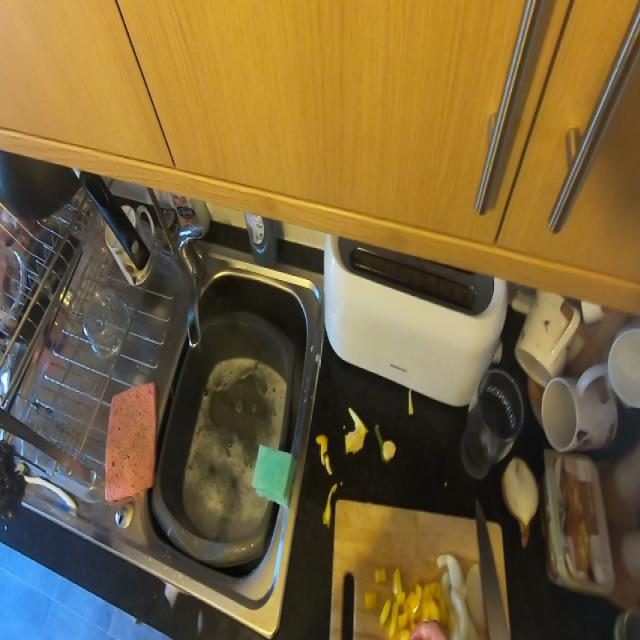cutting board: (332, 489, 512, 640)
glass: (469, 364, 518, 489)
knife: (476, 497, 510, 640)
mug: (537, 362, 622, 448)
sink: (157, 226, 305, 629)
sponge: (108, 382, 154, 504), (251, 439, 297, 505)
tap: (166, 214, 208, 358)
